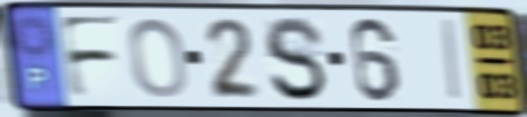2: (202, 16, 263, 101)
6: (349, 14, 402, 105)
F: (55, 14, 124, 102)
I: (441, 16, 466, 104)
O: (126, 15, 190, 101)
S: (261, 13, 330, 105)
